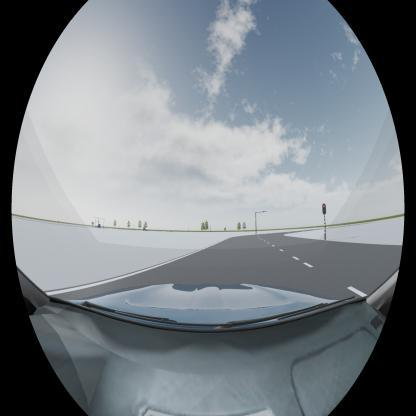Red Light: (322, 203, 326, 214)
